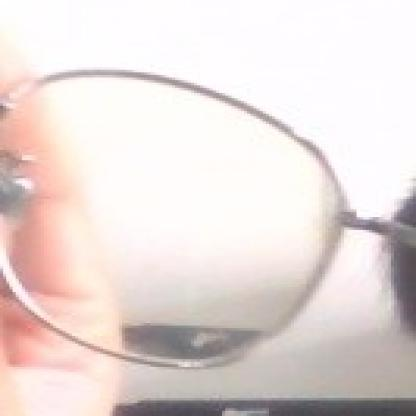not trash: (6, 63, 346, 373)
